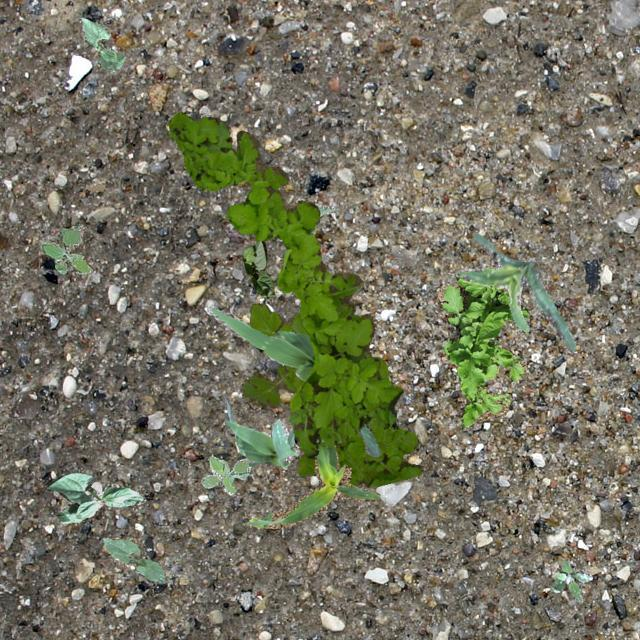crop: (210, 306, 380, 456), (458, 232, 576, 350), (244, 438, 378, 528), (224, 396, 298, 468), (46, 472, 144, 522), (102, 536, 164, 582), (78, 16, 125, 70), (242, 240, 274, 298), (309, 202, 336, 234)
weed: (166, 110, 402, 458), (240, 302, 422, 488), (436, 274, 528, 426), (40, 222, 90, 274), (200, 454, 248, 494), (552, 560, 592, 602)
